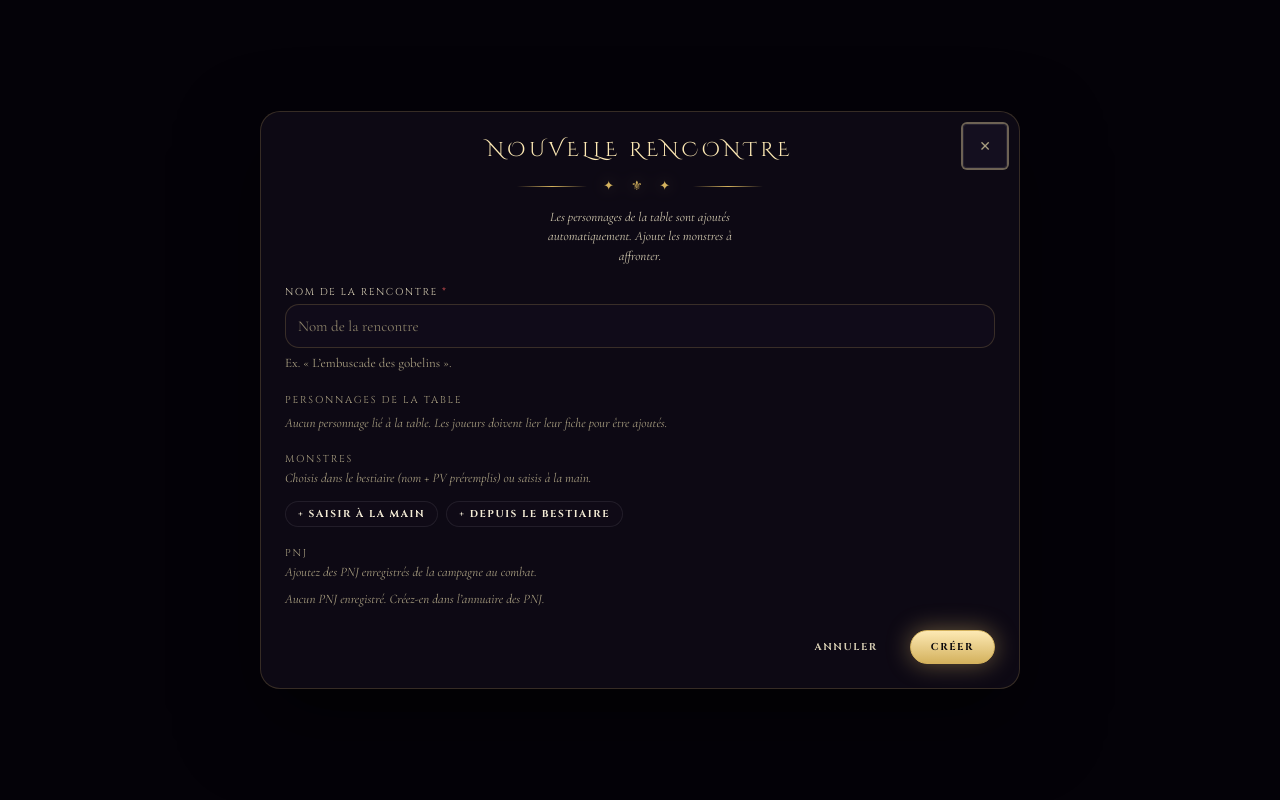
Test: EncounterCreateModal — autofill bestiaire › préremplit une ligne avec le nom + PV moyens du monstre choisi
Click the button "+ Depuis le bestiaire". click: x=535, y=514
box: [446,501,623,527]
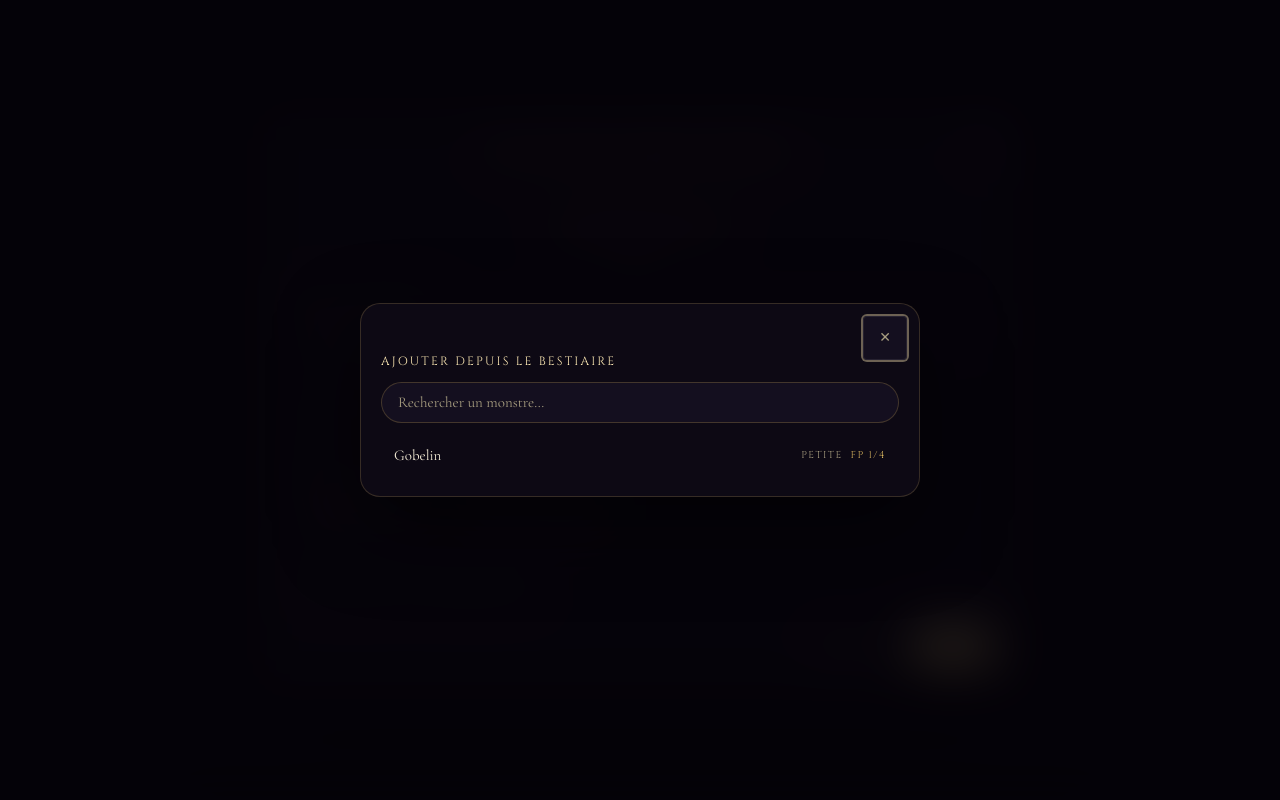
Note: La modale de sélection liste le Gobelin → on le choisit.
Click the button with test id "monster-pick-gobelin". click: x=418, y=455
box: [381,435,899,476]
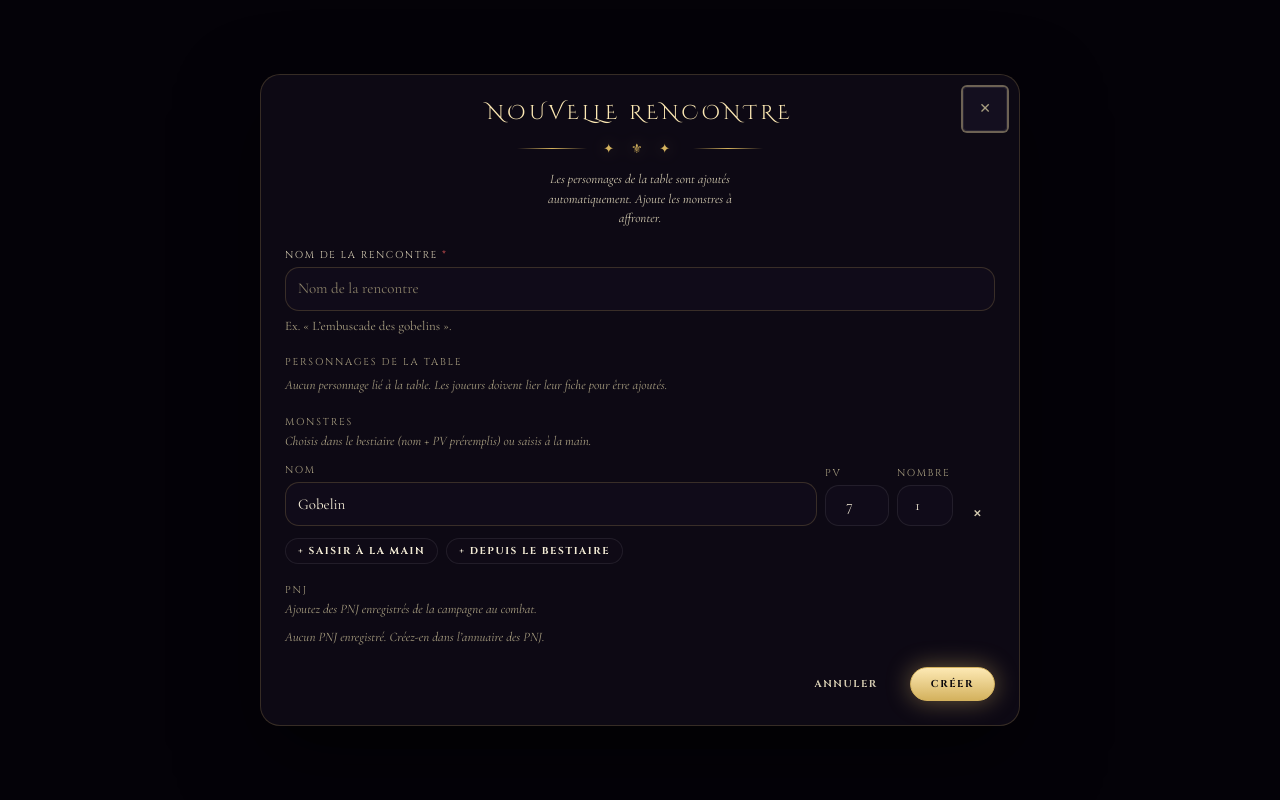
Now the field showing "Gobelin" is shown, box [285,482,817,526]
Now the number field showing "7" is shown, box [825,485,889,526]
